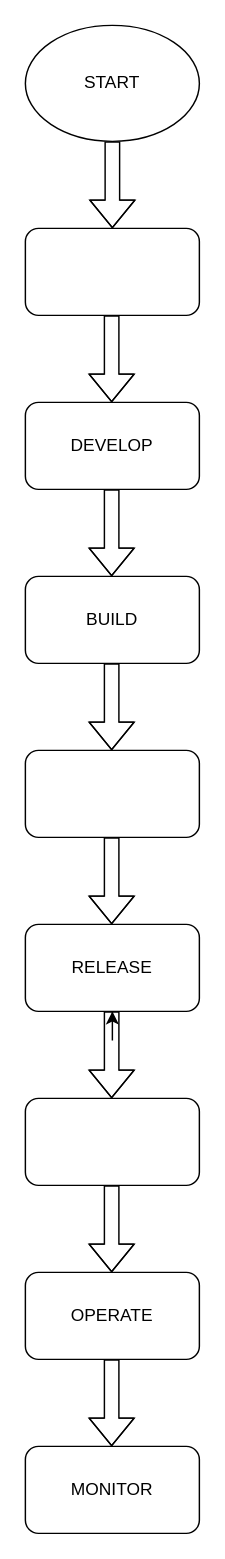
Image size: 225x1559. Some labels were removed from this diagram. The shapes that lost their labels are listed below. From the top down, each one's box as (x1, y1, x2, y2) in pixels, then its label:
(24, 227, 199, 315): PLAN
(24, 749, 199, 837): TESTING
(24, 1097, 199, 1185): DEPLOY
